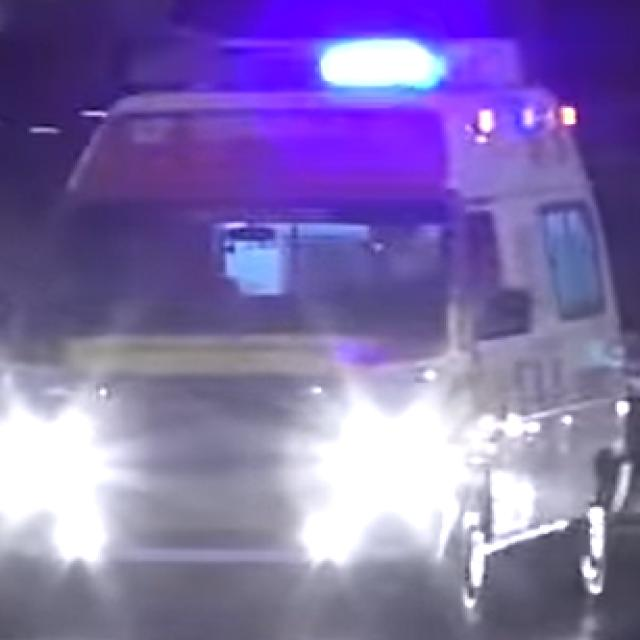ambulance: (0, 0, 638, 626)
